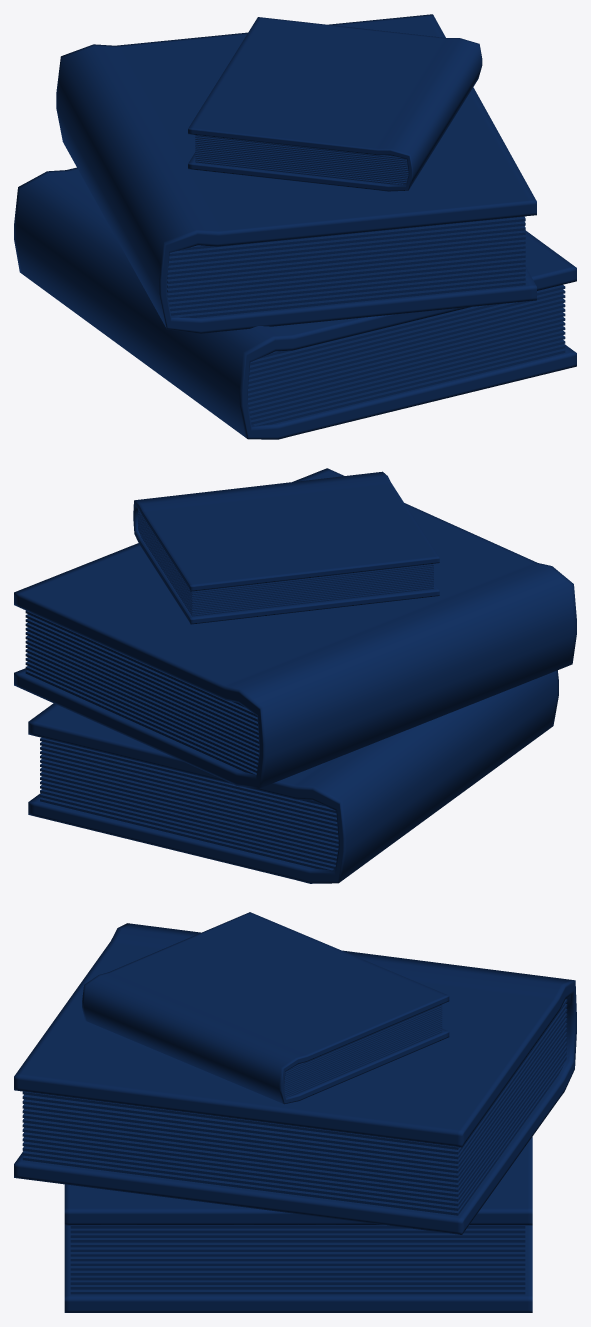
The model's file is Book02.gltf.
The picture shows the model from 3 angles, top to bottom: view 1: azimuth 30°, elevation 25°; view 2: azimuth 150°, elevation 25°; view 3: azimuth 270°, elevation 25°; orthographic projection. The views are drawn at different scales.
Visible parts, largest first — view 1: book close_paper.002, book close_paper.001, book close_paper.016; view 2: book close_paper.002, book close_paper.001, book close_paper.016; view 3: book close_paper.002, book close_paper.001, book close_paper.016.
Part boxes in pixels (x1,y1,x2,y2): book close_paper.002: [56, 14, 536, 333]; book close_paper.001: [14, 167, 576, 439]; book close_paper.016: [188, 17, 482, 191]; book close_paper.002: [14, 468, 576, 788]; book close_paper.001: [28, 670, 558, 883]; book close_paper.016: [133, 471, 439, 624]; book close_paper.002: [14, 923, 576, 1234]; book close_paper.001: [64, 1137, 532, 1312]; book close_paper.016: [82, 912, 449, 1104].
Size of the model in its own units: 1.64 by 0.887 by 1.79.
